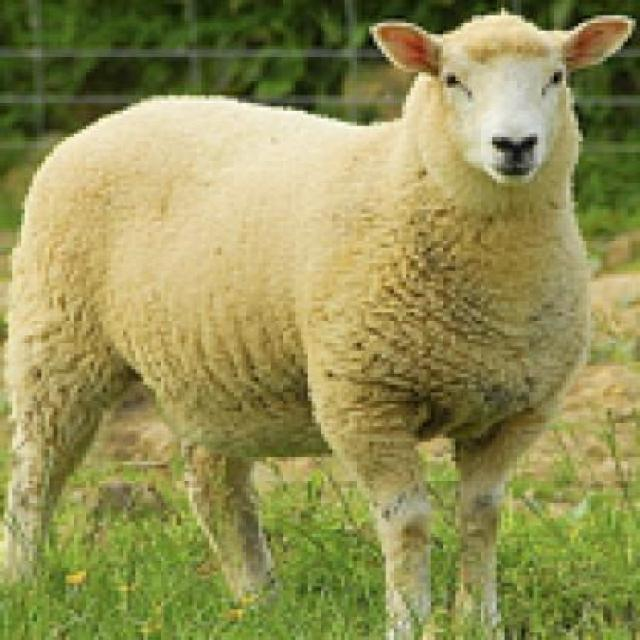Sheep: (0, 3, 637, 637)
